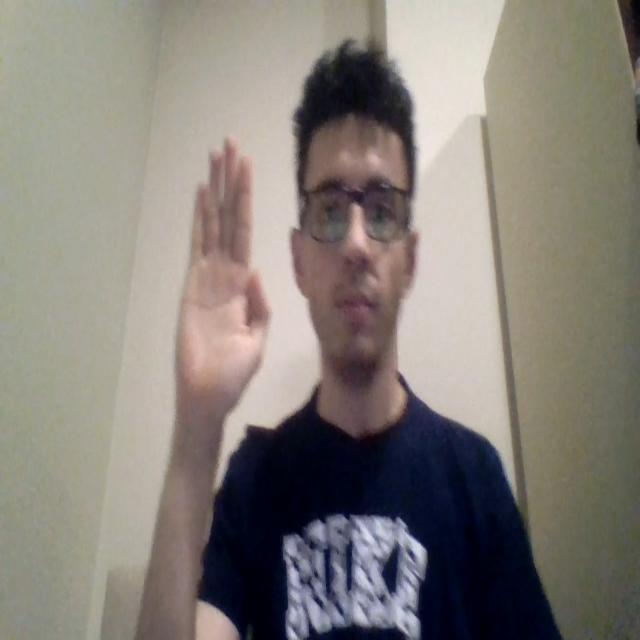hello: (172, 134, 272, 436)
